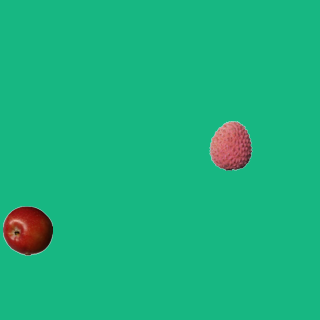Apple Braeburn: (2, 205, 52, 255)
Lychee: (205, 120, 255, 170)
